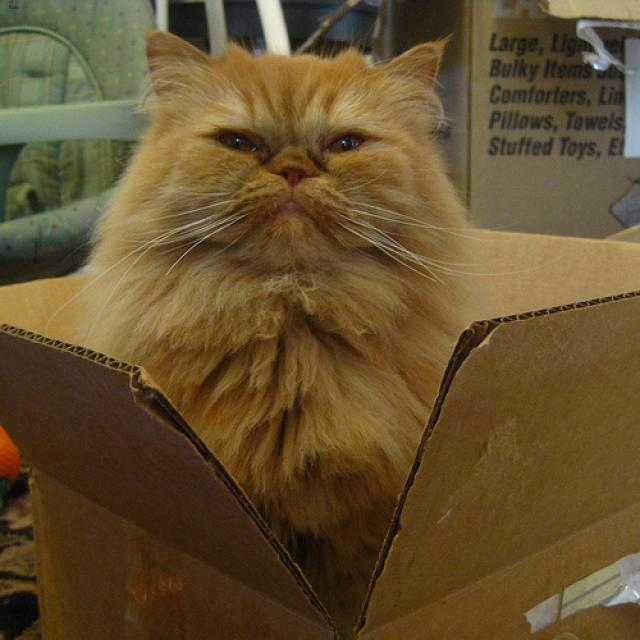Persian: (146, 30, 440, 259)
